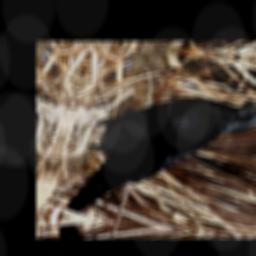Crow: (63, 82, 256, 231)
